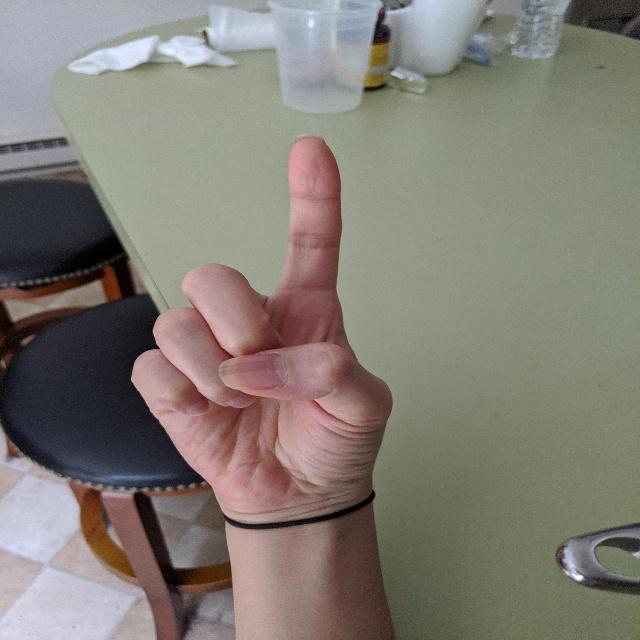D: (124, 128, 402, 523)
